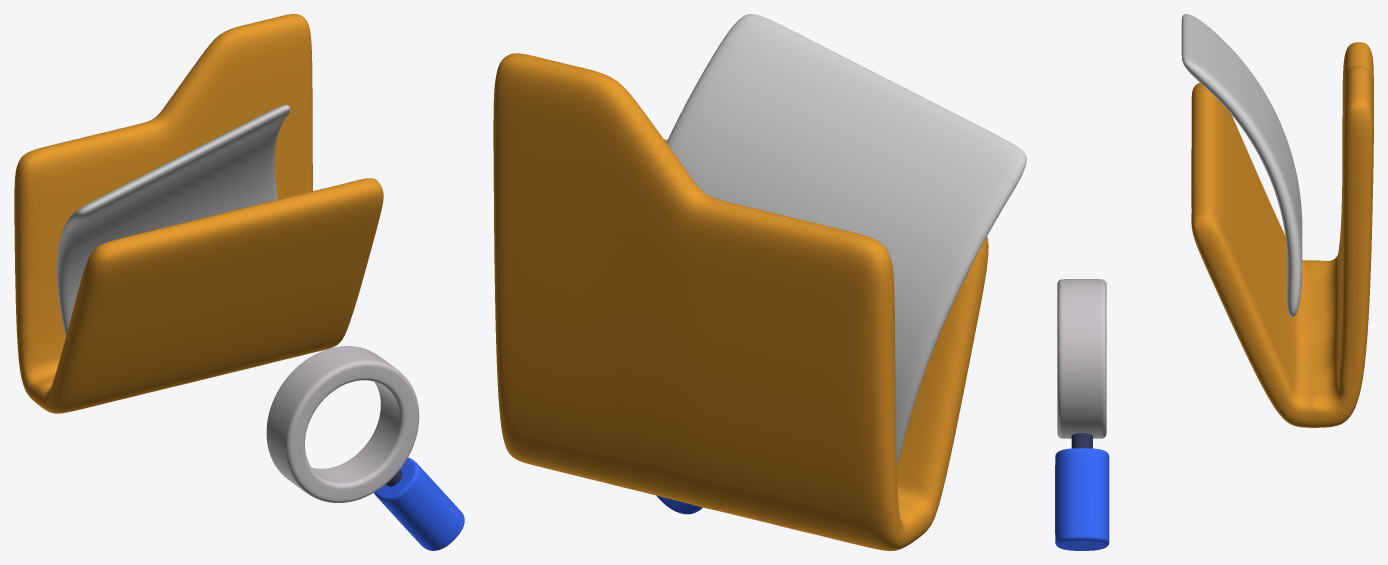
Rendered from searching-folder-animated-3d-icon-835094187518.glb.
3 renders of one model, left to right at view 1: azimuth 30°, elevation 25°; view 2: azimuth 150°, elevation 25°; view 3: azimuth 270°, elevation 25°, orthographic. The views are drawn at different scales.
Visible parts, largest first — view 1: Folder.007, File 1.006, Magnifier, Handle 1; view 2: Folder.007, File 1.006; view 3: Folder.007, File 1.006, Magnifier, Handle 1.
Part boxes in pixels (x1,y1,x2,y2): Folder.007: (14, 14, 383, 413); File 1.006: (56, 104, 290, 336); Magnifier: (266, 346, 419, 502); Handle 1: (374, 457, 464, 550); Folder.007: (493, 53, 988, 550); File 1.006: (666, 14, 1026, 465); Folder.007: (1191, 42, 1373, 427); File 1.006: (1181, 14, 1302, 317); Magnifier: (1057, 279, 1106, 438); Handle 1: (1055, 448, 1109, 550).
Bounding box in the file's own units: 2.12 × 2.68 × 1.71.
